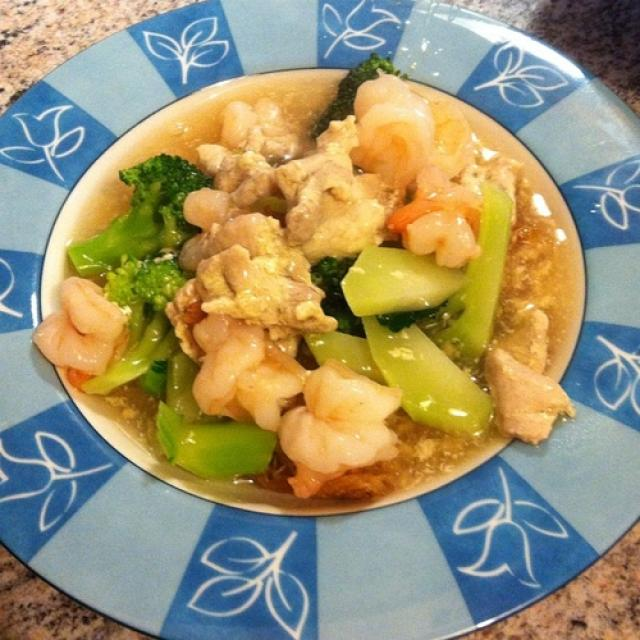面条主食: (44, 69, 584, 506)
